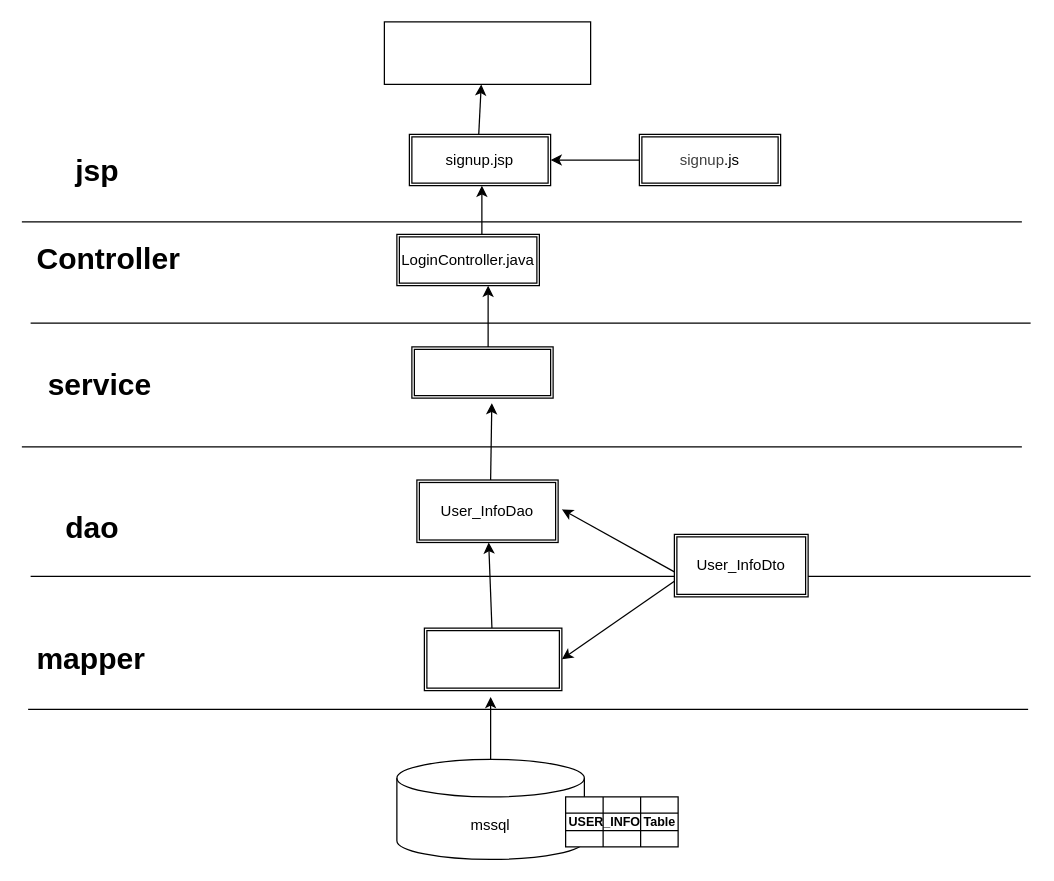
The diagram is 1054 pixels wide and 881 high, and some of its shapes have lost their labels. The shapes that lost their labels are listed below. From the top down, each one's centre as x and y in pixels, then its label:
point (487, 52): /signup
point (482, 372): LoginService.java
point (492, 659): USER_INFO.xml
